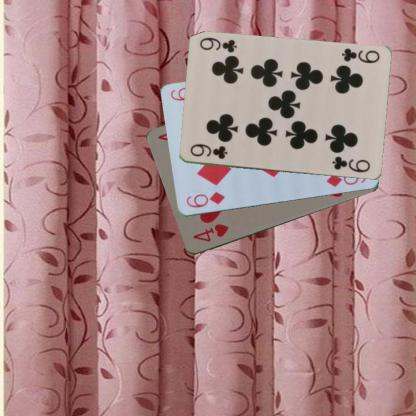4h: (190, 221, 230, 244)
6d: (183, 189, 226, 209)
9c: (187, 141, 229, 161), (338, 46, 380, 64)
